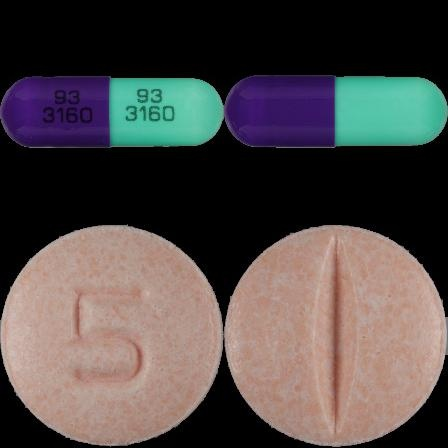51655-214: (0, 0, 224, 224)
